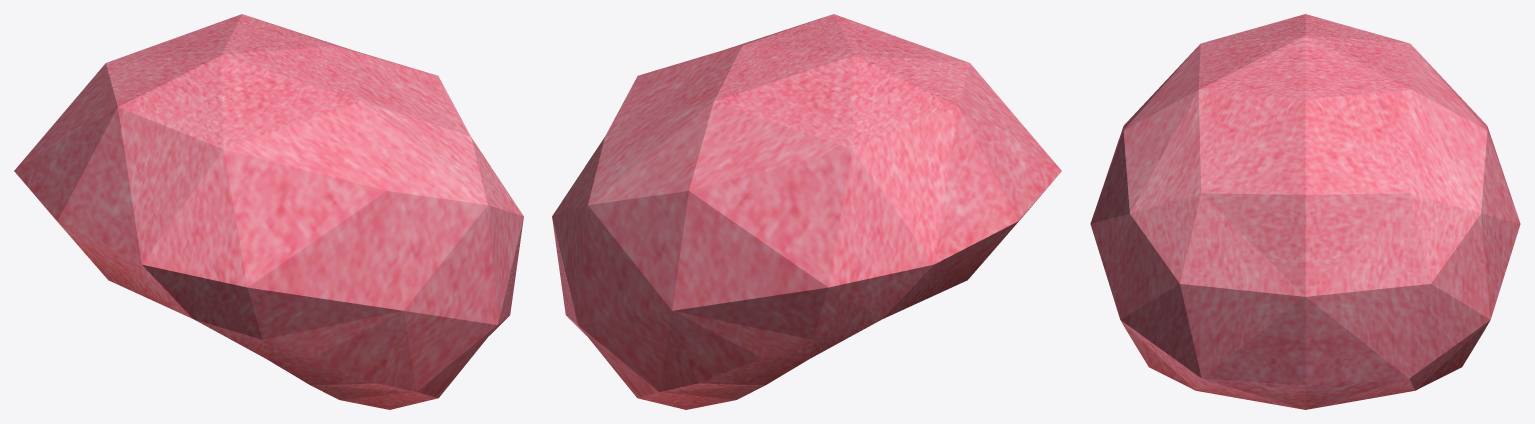
The model's file is Rabbit_afro.obj.
3 views of the same model, side by side, from view 1: azimuth 30°, elevation 25°; view 2: azimuth 150°, elevation 25°; view 3: azimuth 270°, elevation 25° (orthographic). The views are drawn at different scales.
Parts seen in each view (by area): view 1: Rabbit_afro_tri; view 2: Rabbit_afro_tri; view 3: Rabbit_afro_tri.
Part boxes in pixels (left/top/right/bottom): Rabbit_afro_tri: left=14, top=14, right=523, bottom=409; Rabbit_afro_tri: left=552, top=14, right=1061, bottom=409; Rabbit_afro_tri: left=1090, top=14, right=1520, bottom=409.
Bounding box in the file's own units: 0.426 × 0.338 × 0.4199.
Materials: 1 (1 with a texture image).
